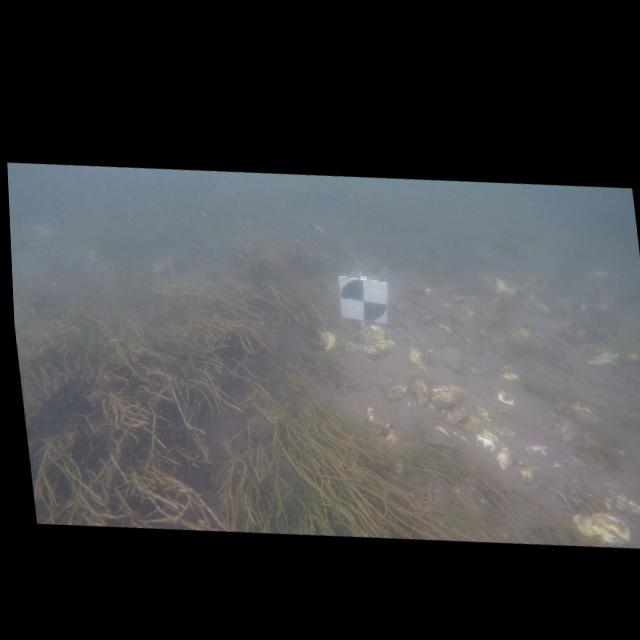Oyster-Closed: (572, 513, 630, 545), (603, 489, 640, 514), (430, 384, 466, 407), (367, 407, 390, 429), (412, 375, 428, 404), (516, 458, 535, 482), (362, 325, 385, 344), (385, 384, 407, 398)
Oyster-Indeterminate: (442, 403, 469, 426), (476, 429, 498, 452), (495, 391, 515, 415), (317, 329, 337, 351), (495, 446, 512, 469), (475, 406, 493, 422), (409, 345, 422, 365), (525, 445, 549, 455), (501, 371, 518, 380)
Oyster-Open: (362, 339, 395, 359), (424, 425, 451, 449), (423, 348, 433, 365)
